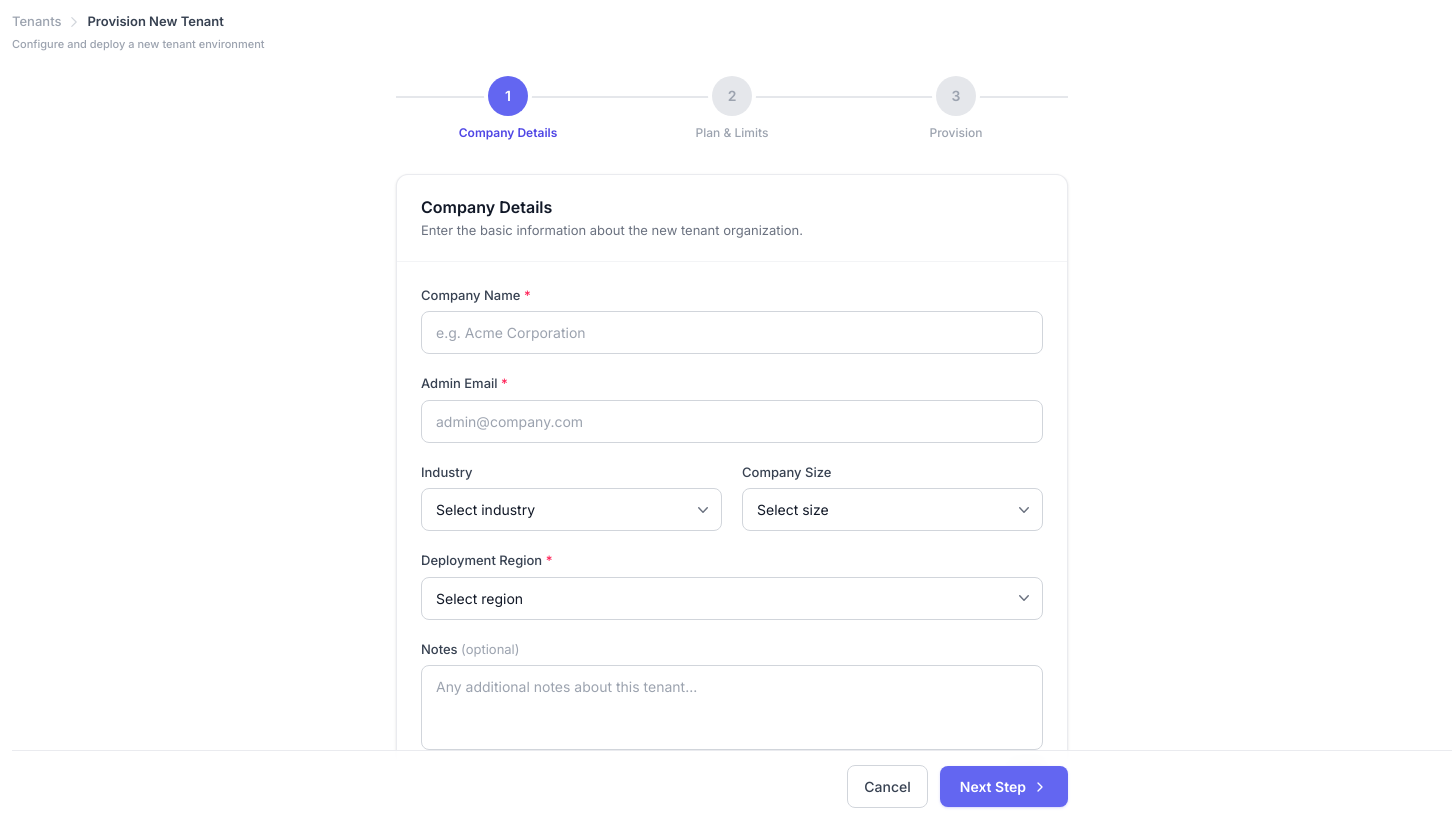
Provisioning Wizard Integration › API error handling › should show error state when API returns 409 (duplicate company)
Type "Integration Test Corp" into the field labelled "Company Name *" at point(732, 332), box [421,311,1043,354]
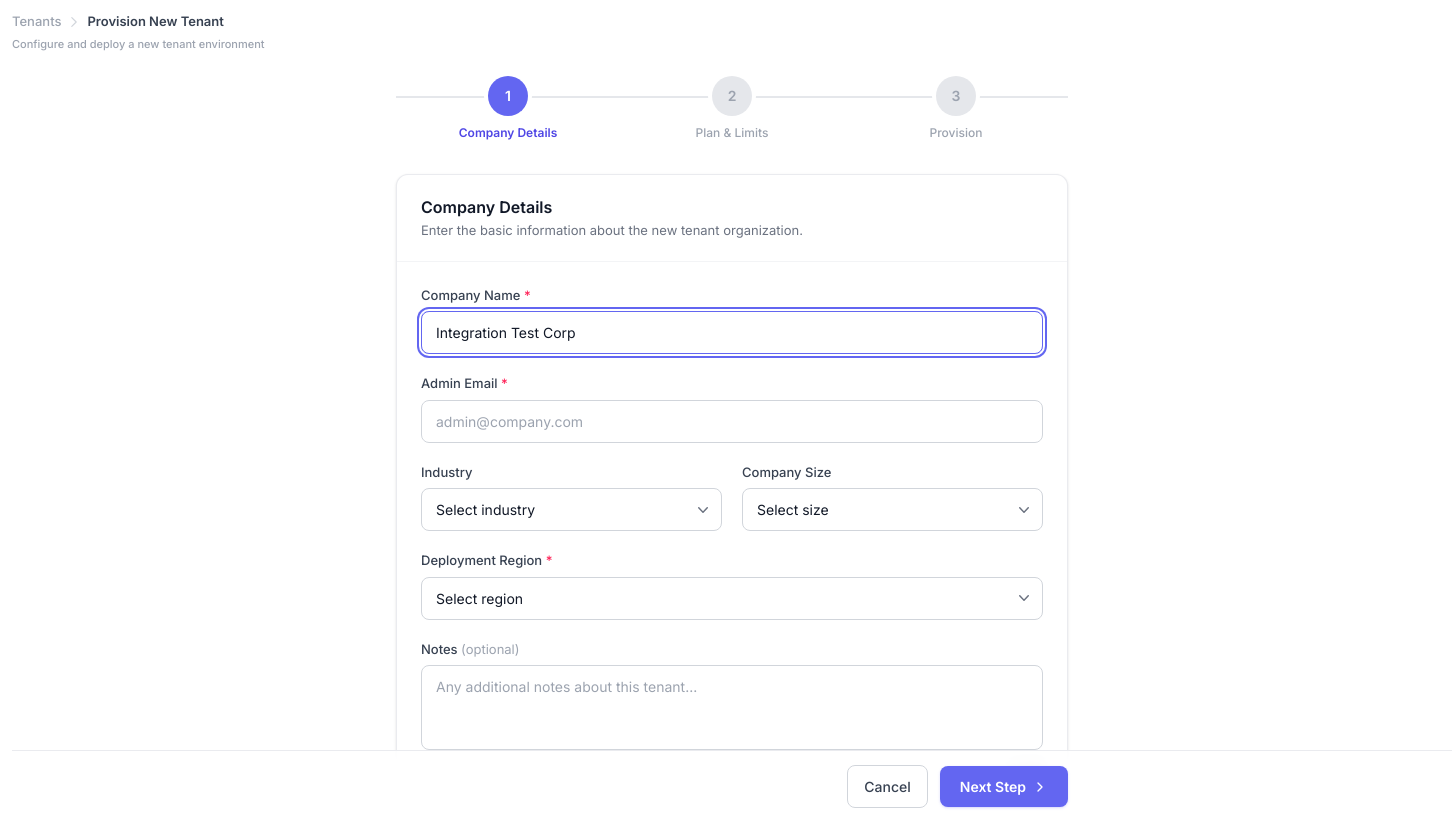
Type "admin@integration.com" into the field labelled "Admin Email *" at point(732, 421), box [421,400,1043,442]
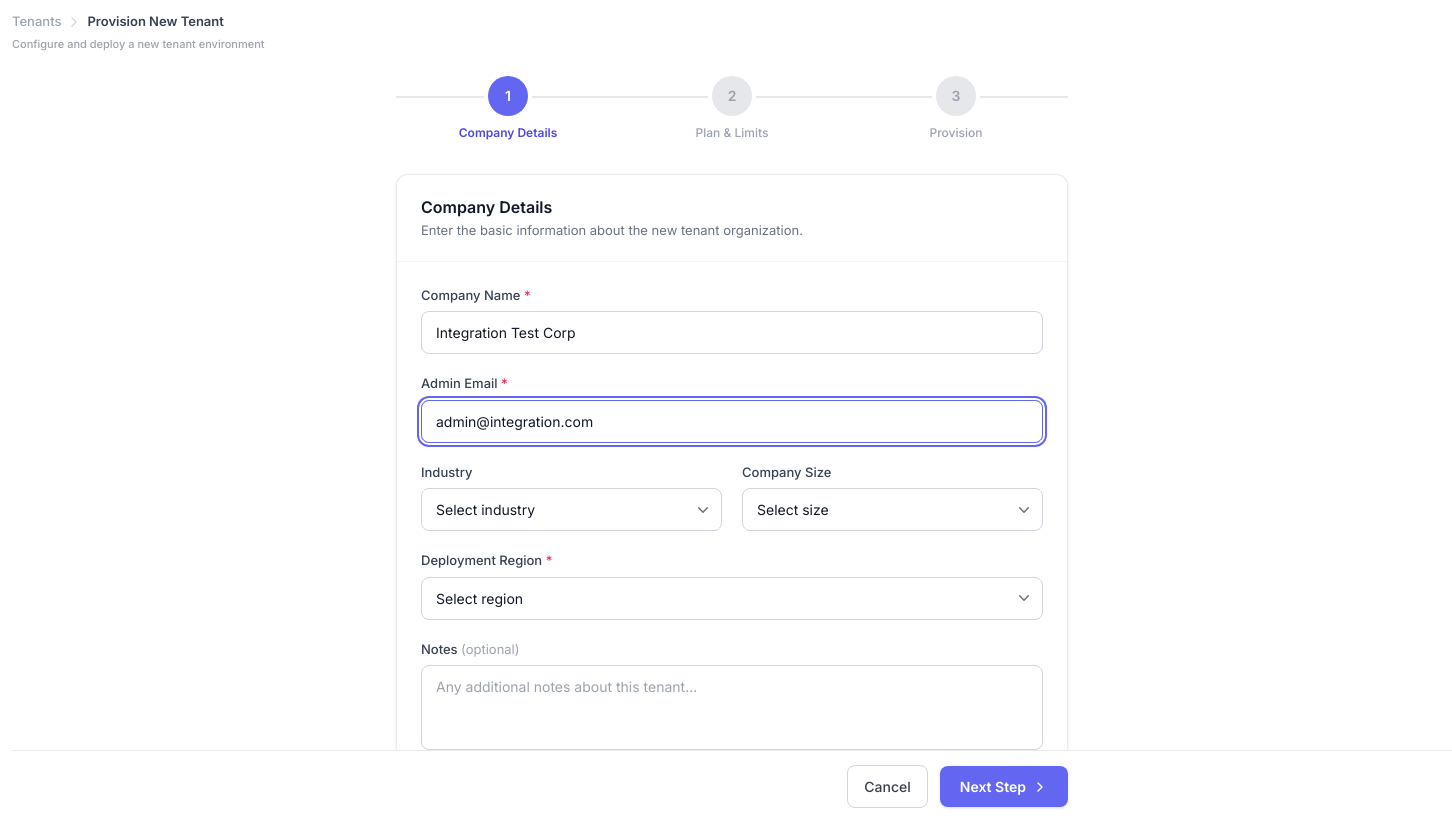
Select "US East (Virginia)" in the dropdown labelled "Deployment Region *" at point(732, 598), box [421,576,1043,620]
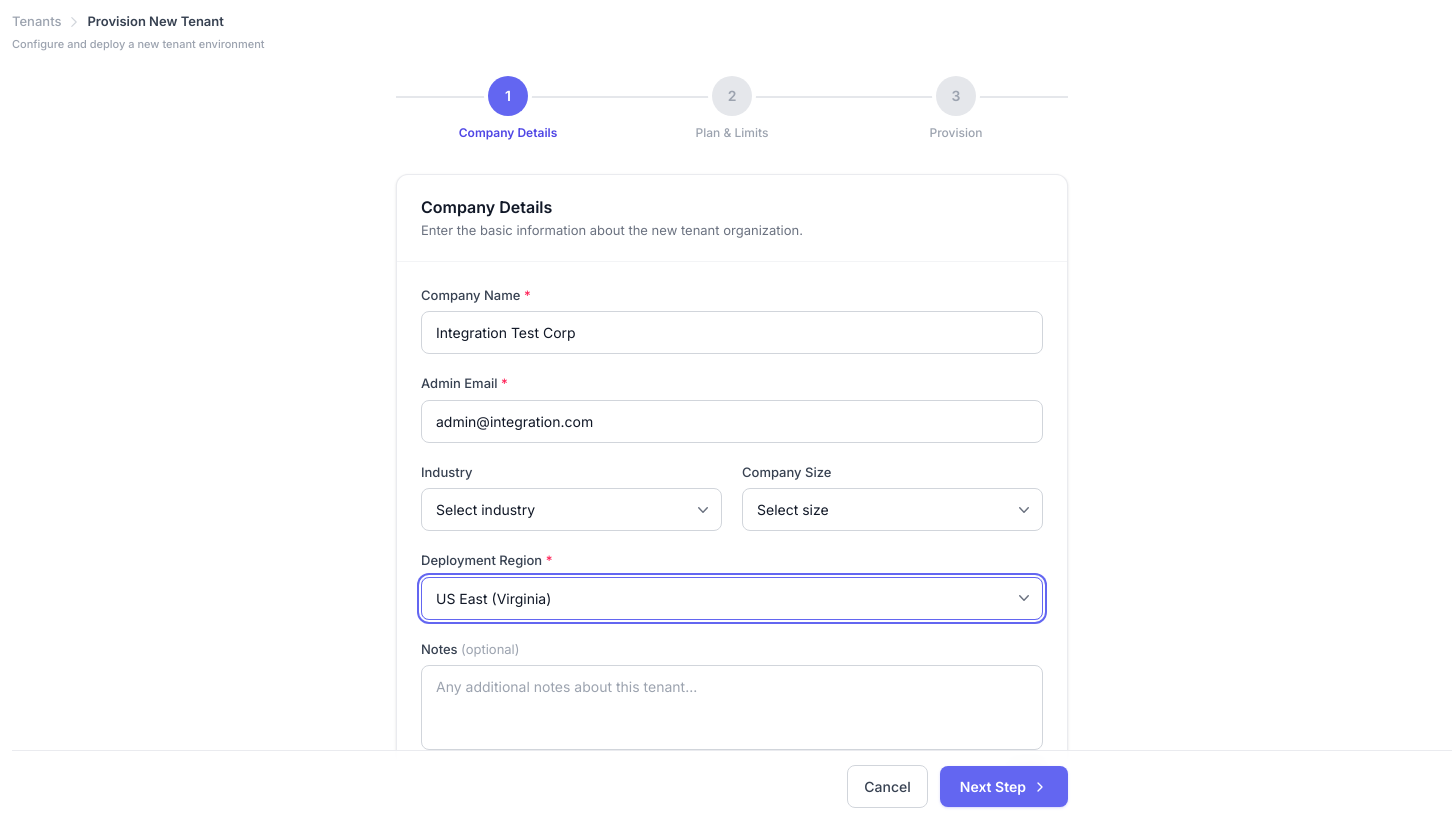
Click the button with test id "next-button" at point(1004, 786), box [940,766,1068,807]
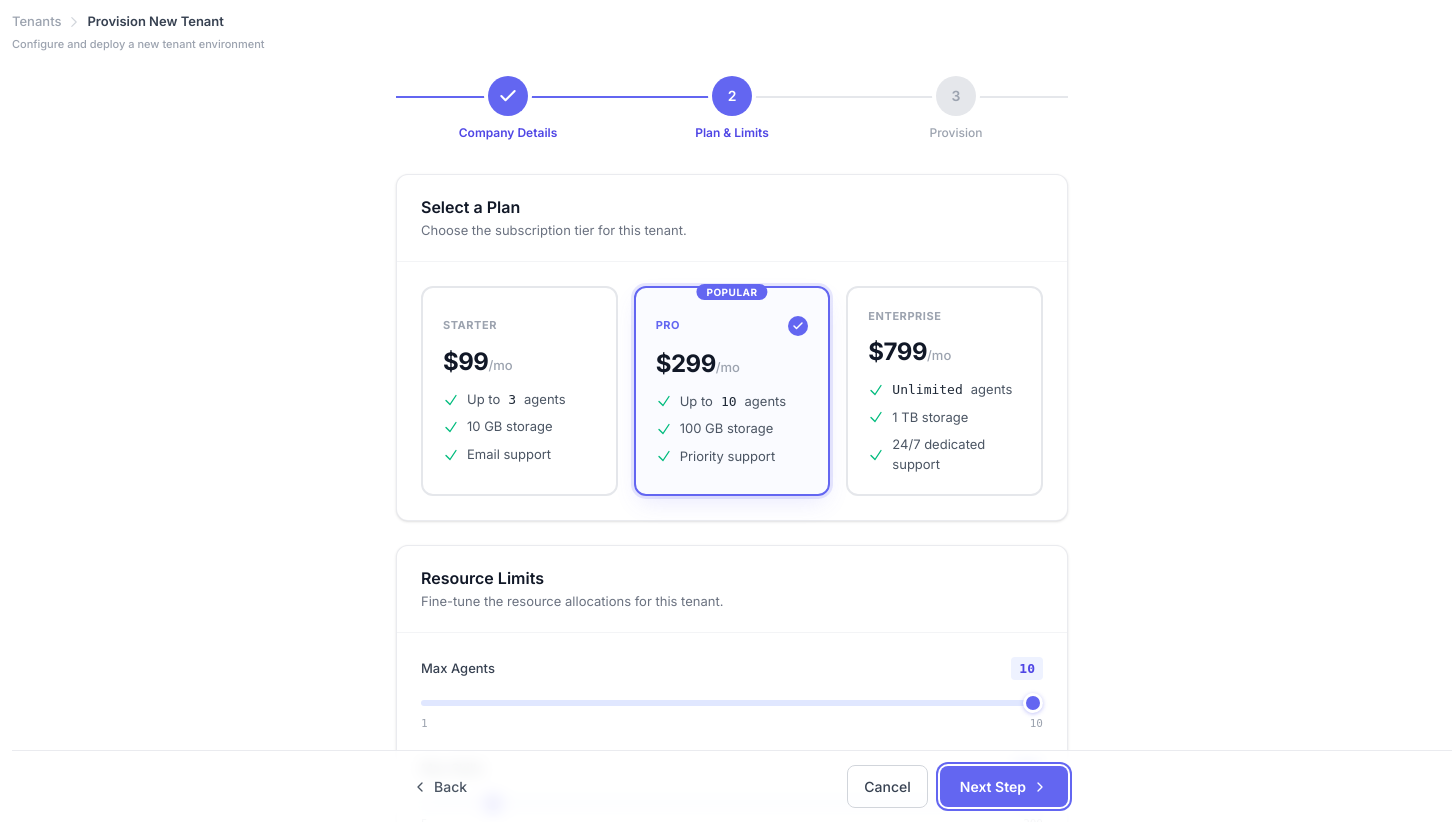
Expected: the text "Plan & Limits" is shown, [695,124,769,142]
Click the button with test id "next-button" at point(1004, 786), box [940,766,1068,807]
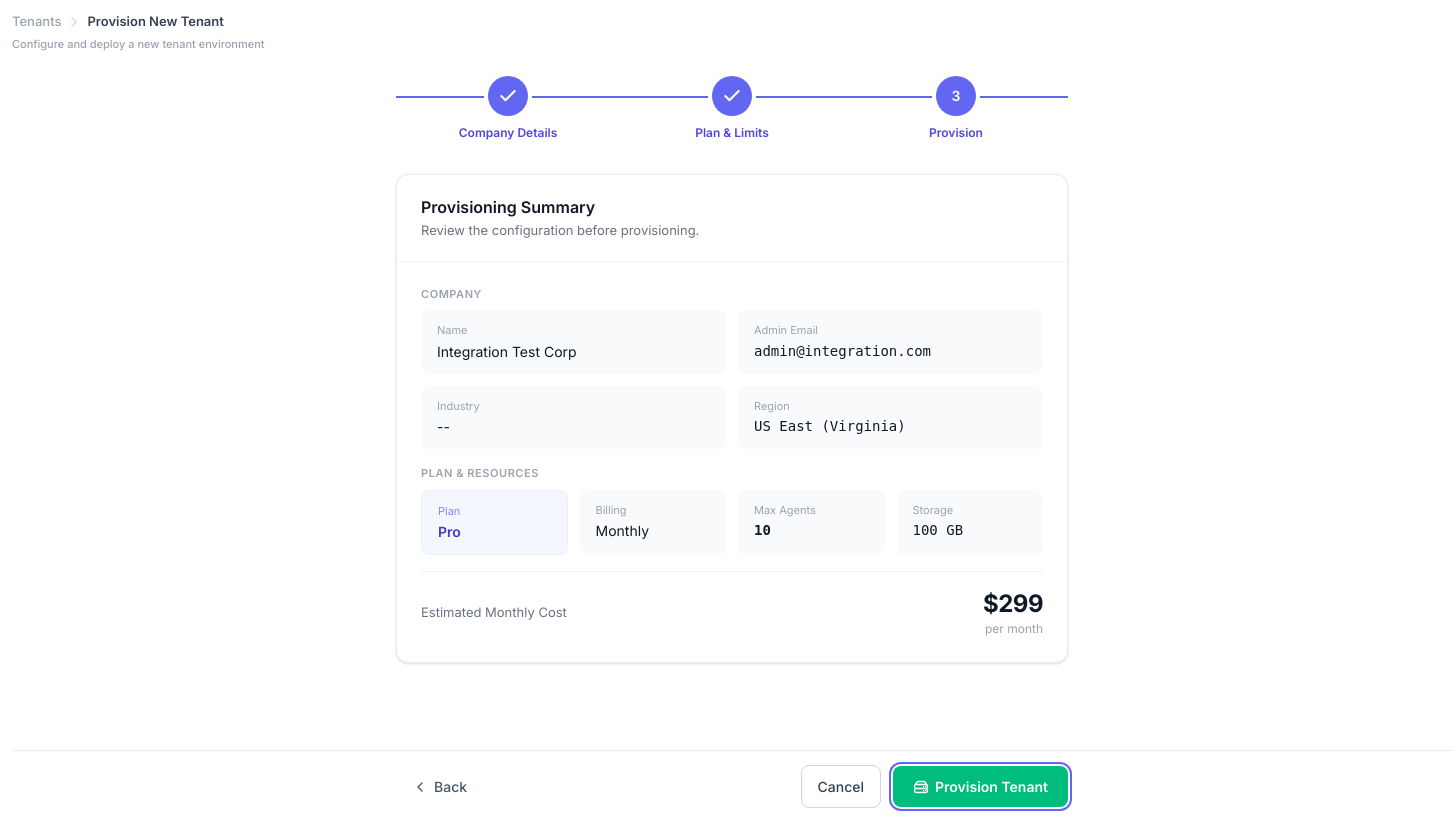
Result: the heading "Provisioning Summary" is shown at [421,197,595,217]
Click the button with test id "provision-button" at point(980, 786), box [893,766,1068,807]
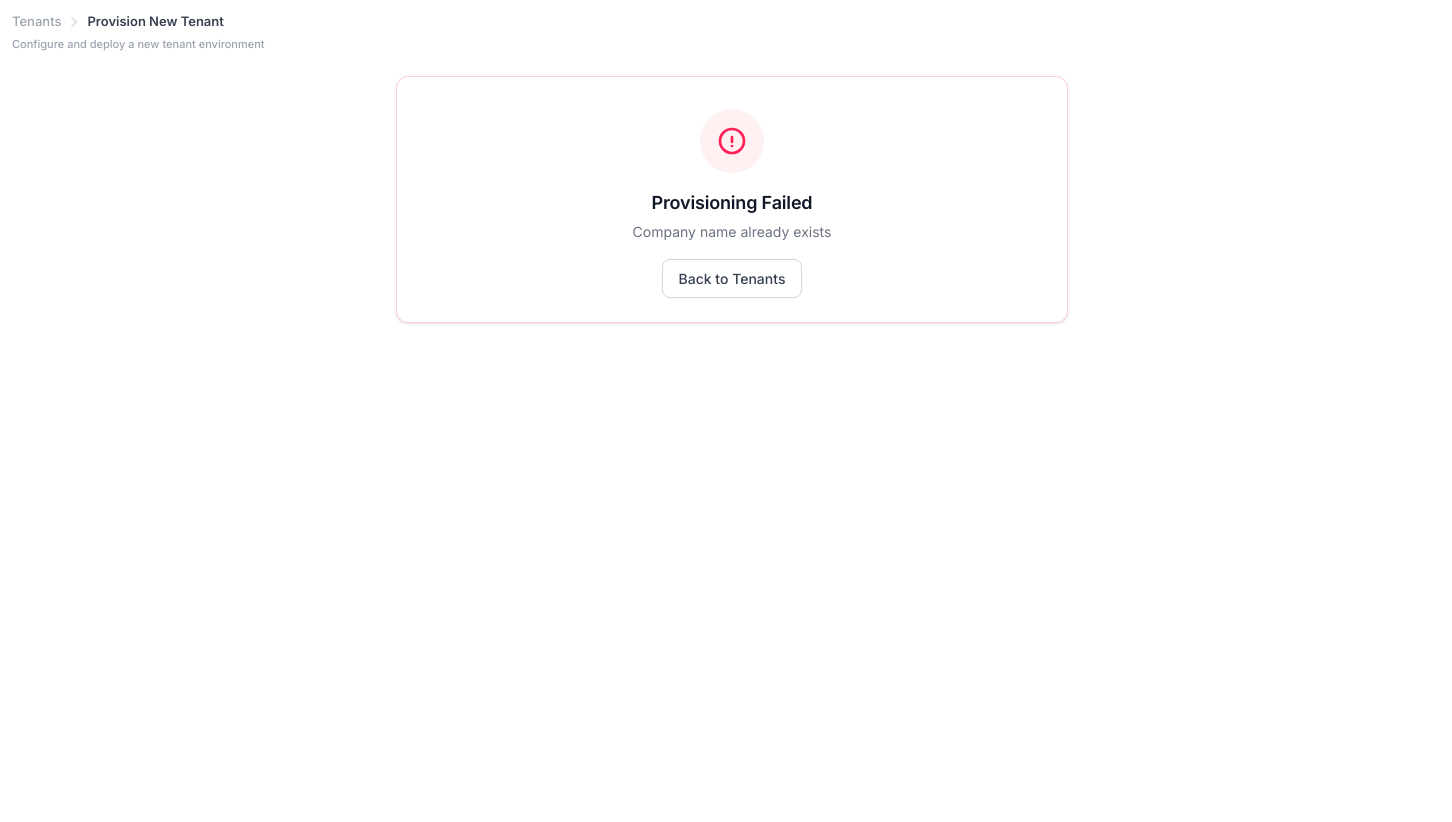
Result: the heading "Provisioning Failed" is shown at [652,192,812,213]
Result: the text "Company name already exists" is shown at [633,223,831,240]
